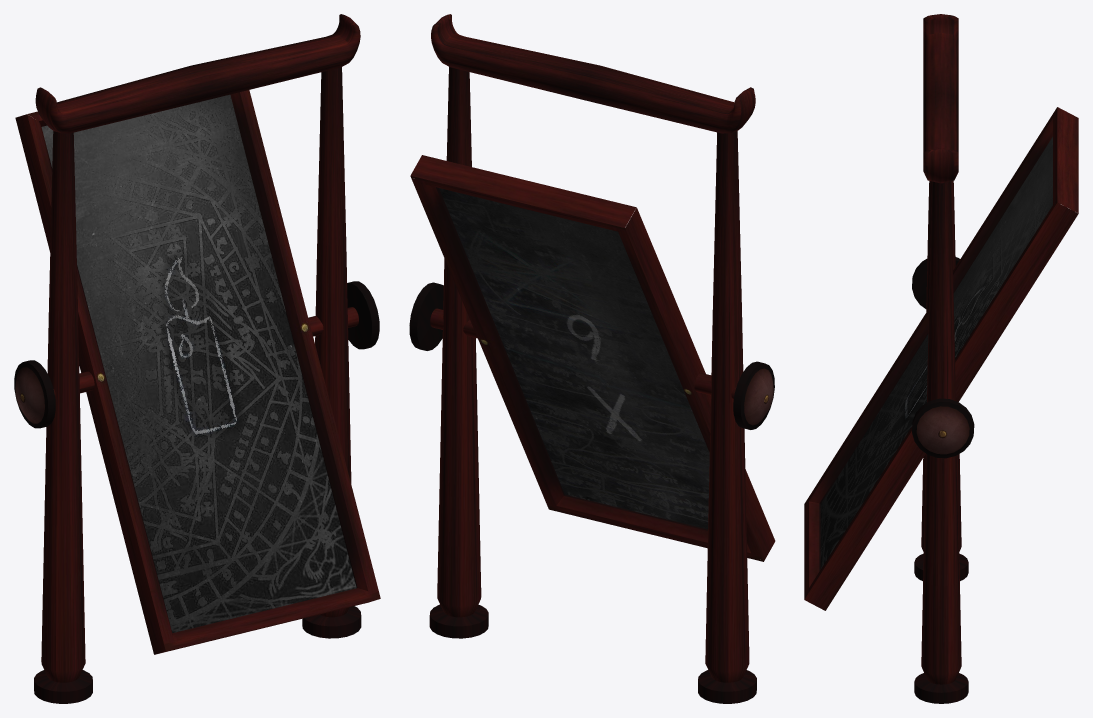
The model's file is indice2.glb.
3 views of the same model, side by side, from view 1: azimuth 30°, elevation 25°; view 2: azimuth 150°, elevation 25°; view 3: azimuth 270°, elevation 25° (orthographic). The views are drawn at different scales.
Visible parts, largest first — view 1: Chalkboard1, Frame, Post_L, Post_TOP, Post_R, Handle_L, Handle_R; view 2: Chalkboard1, Frame, Post_L, Post_R, Post_TOP, Handle_L, Handle_R; view 3: Frame, Post_R, Chalkboard1, Post_TOP, Handle_R, Post_L, Handle_L.
Boxes of the visible parts, <box> form: Chalkboard1: <box>41,94,356,632</box>; Frame: <box>15,90,380,654</box>; Post_L: <box>34,131,92,703</box>; Post_TOP: <box>35,14,360,133</box>; Post_R: <box>302,67,361,638</box>; Handle_L: <box>14,360,94,428</box>; Handle_R: <box>308,281,379,349</box>; Chalkboard1: <box>439,188,709,529</box>; Frame: <box>410,155,775,561</box>; Post_L: <box>698,131,756,703</box>; Post_R: <box>429,67,488,638</box>; Post_TOP: <box>431,14,755,133</box>; Handle_L: <box>694,361,774,429</box>; Handle_R: <box>409,282,477,350</box>; Frame: <box>804,107,1078,610</box>; Post_R: <box>914,181,968,703</box>; Chalkboard1: <box>820,137,1052,568</box>; Post_TOP: <box>923,14,958,183</box>; Handle_R: <box>912,398,974,458</box>; Post_L: <box>914,180,968,580</box>; Handle_L: <box>912,257,959,308</box>.
Bounding box in the file's own units: 2.07 × 3.41 × 1.54.
2 materials, 2 textured.
